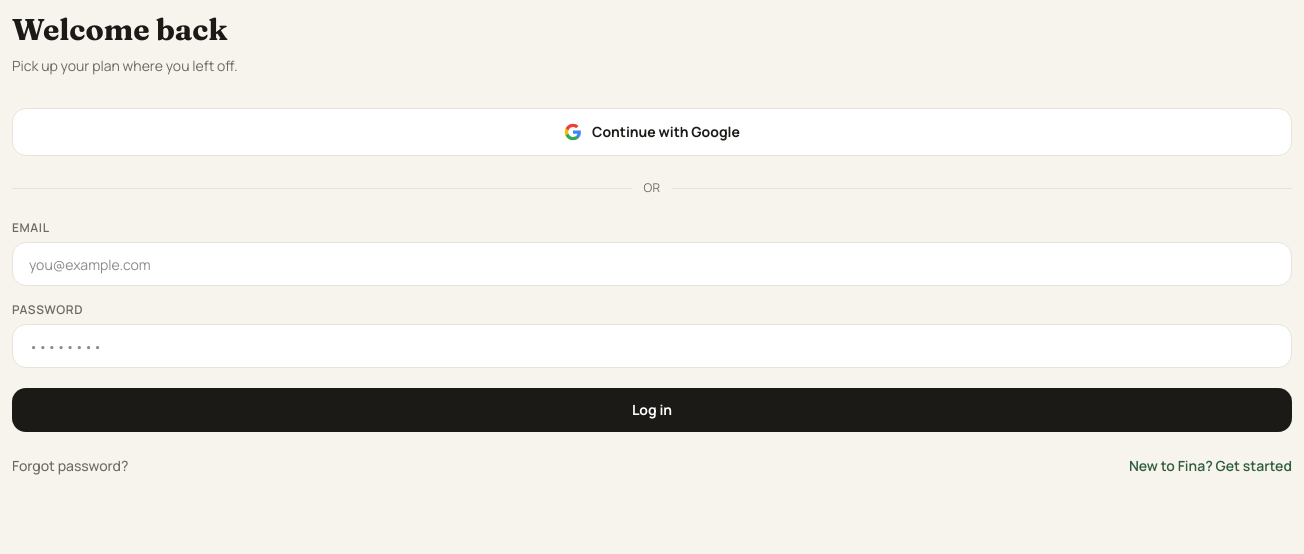
login social sign-in › handles a thrown network error
Click the button "Continue with Google".
click(652, 132)  # box [12,108,1292,156]
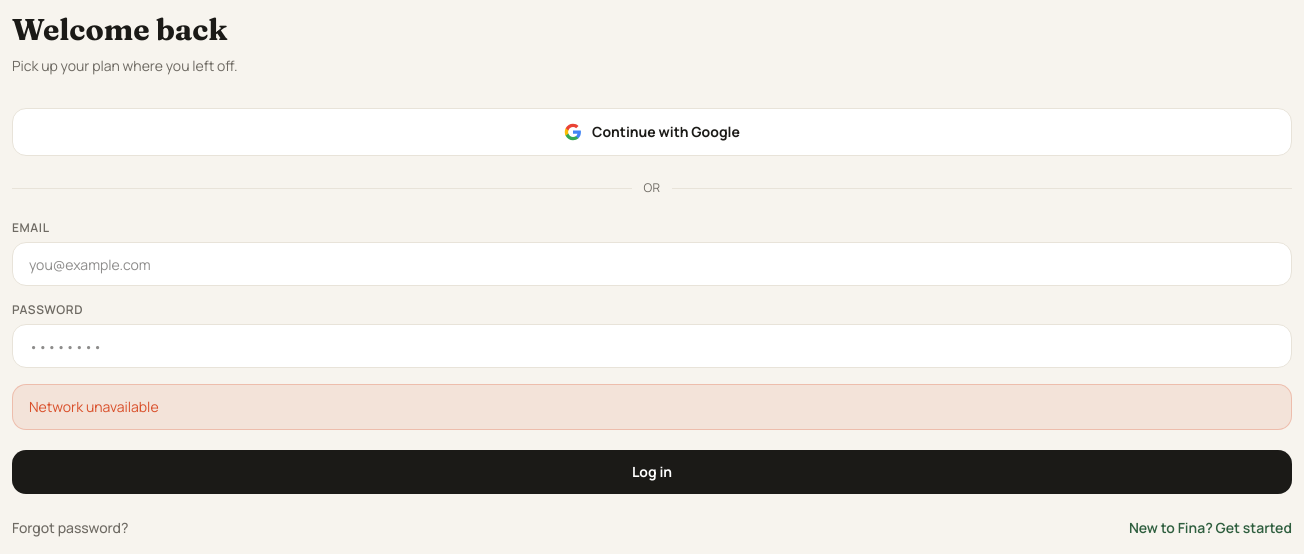
Expected: the message reads "Network unavailable", [29,397,159,416]
